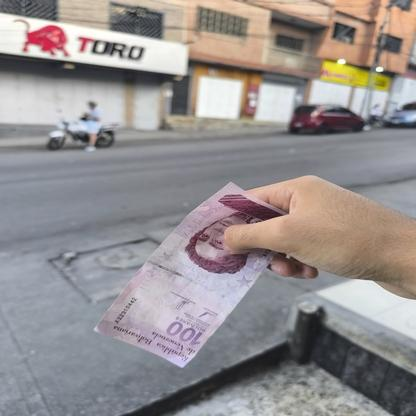vef_front: (92, 180, 288, 368)
